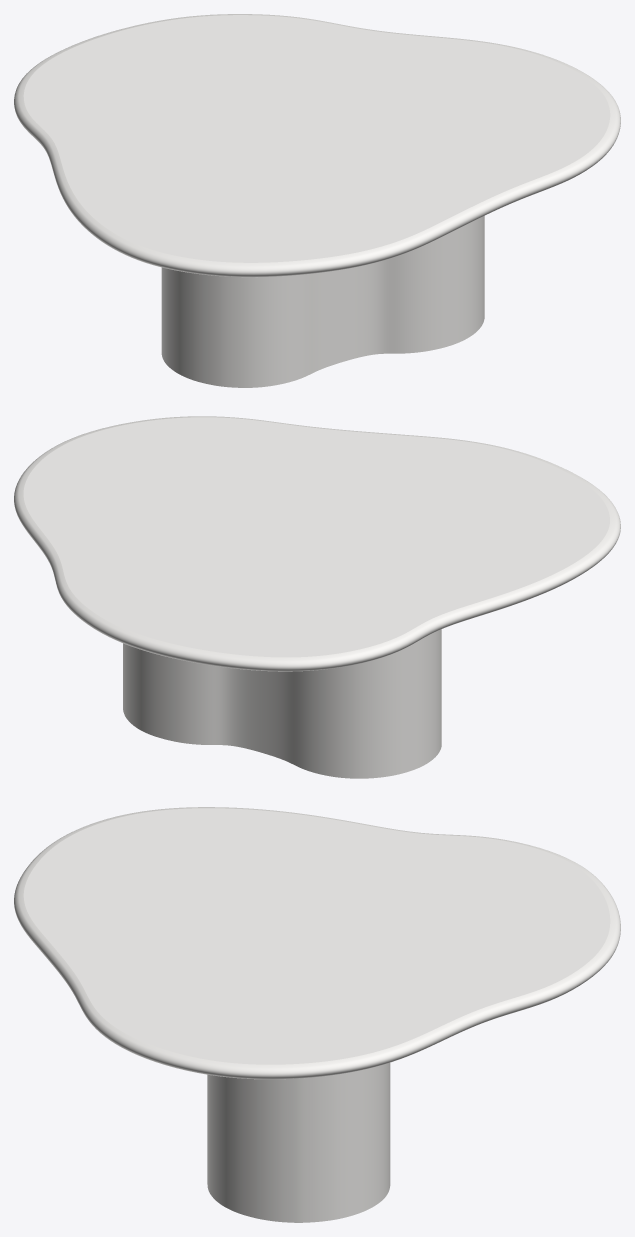
The model's file is purewhite_topone_round_riverwave.glb.
3 renders of one model, top to bottom at view 1: azimuth 30°, elevation 25°; view 2: azimuth 150°, elevation 25°; view 3: azimuth 270°, elevation 25°, orthographic. The views are drawn at different scales.
Visible parts, largest first — view 1: round_topone, riverwave; view 2: round_topone, riverwave; view 3: round_topone, riverwave.
Part boxes in pixels (<box>): round_topone: <box>14,14,620,277</box>; riverwave: <box>161,216,484,387</box>; round_topone: <box>14,416,620,671</box>; riverwave: <box>123,629,441,778</box>; round_topone: <box>14,807,620,1079</box>; riverwave: <box>207,1062,390,1222</box>.
Bounding box in the file's own units: 6.83 × 2.5 × 6.6.
1 material, 1 textured.
